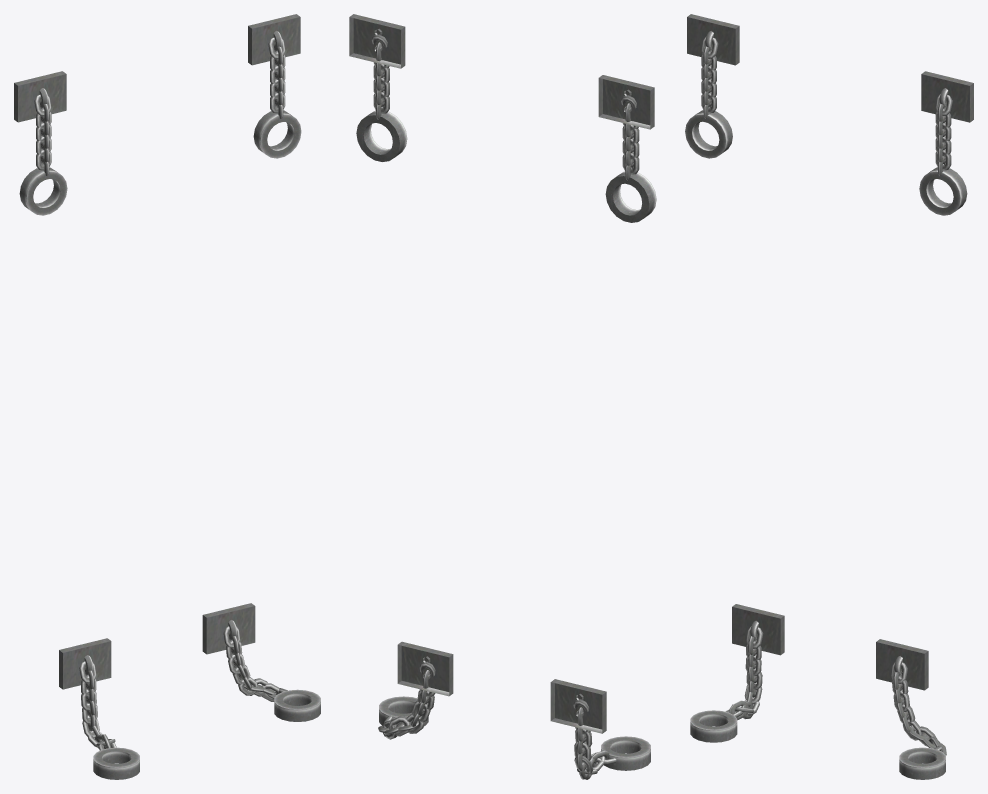
Rendered from chainsHanging.fbx.
3 renders of one model, left to right at view 1: azimuth 30°, elevation 25°; view 2: azimuth 150°, elevation 25°; view 3: azimuth 330°, elevation 25°, orthographic. The views are drawn at different scales.
Parts seen in each view (by area): view 1: chainsHanging; view 2: chainsHanging; view 3: chainsHanging.
Boxes of the visible parts, <box> form: chainsHanging: <box>14,14,320,779</box>; chainsHanging: <box>349,14,656,779</box>; chainsHanging: <box>685,14,973,779</box>.
Bounding box in the file's own units: 0.6723 × 1.54 × 0.2129.
Materials: 1 (1 with a texture image).
